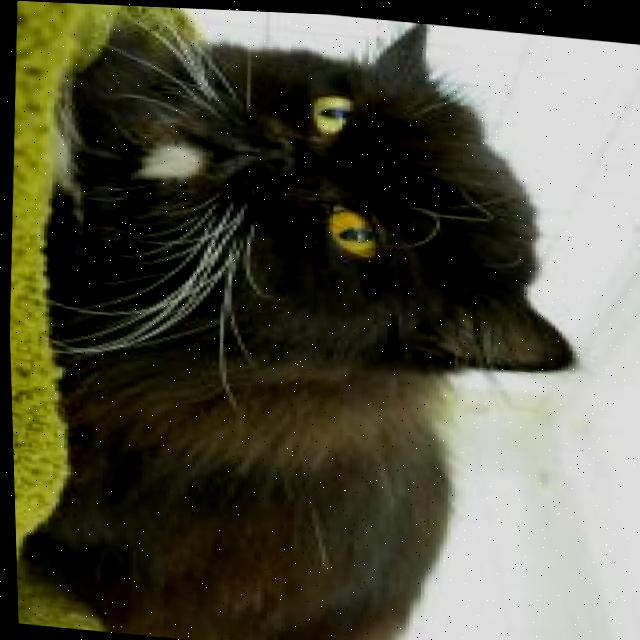Persian: (1, 0, 607, 640)
